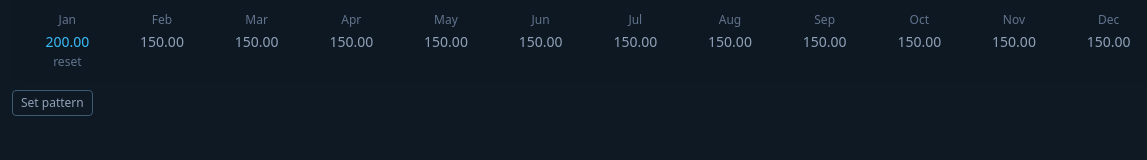
Test: BudgetOverrideForm › Enter saves locally and opens the next month for editing
The width and height of the screenshot is (1147, 160).
// Click Jan to start editing
Step 1. Click the button named "edit override for jan" → (67, 42), box [24,32,111,52]
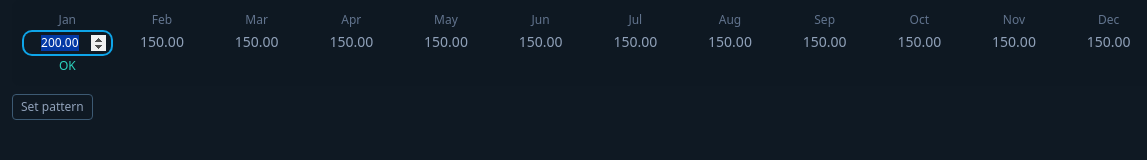
Step 2. Replace the text in the number field named "override amount for jan" with "250" → (67, 43), box [24,32,111,54]
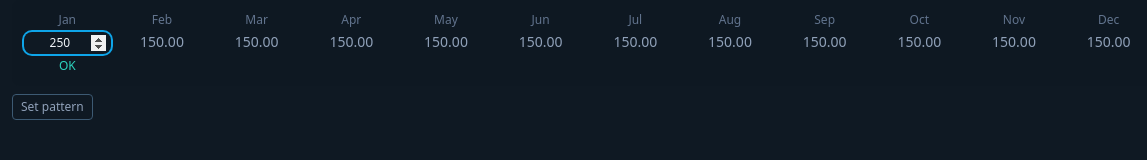
Step 3. Press Enter
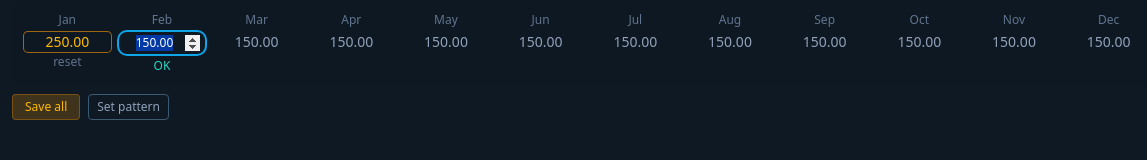
expect the number field named "override amount for feb" is shown: met, box [119,32,205,54]
expect the button "Save all" is shown: met, box [12,94,80,120]
